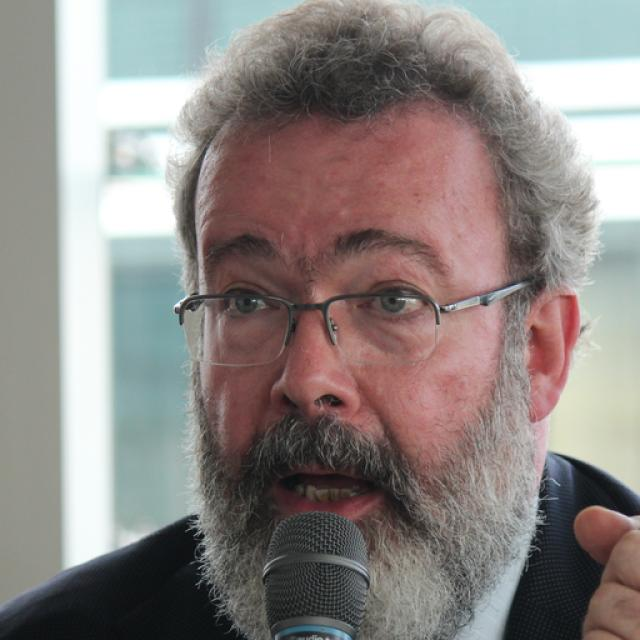Wrinkle: (332, 207, 355, 221)
